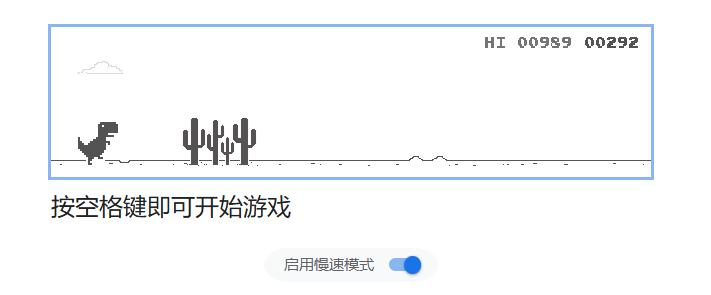cactus: (180, 117, 258, 166)
dino: (75, 121, 120, 165)
